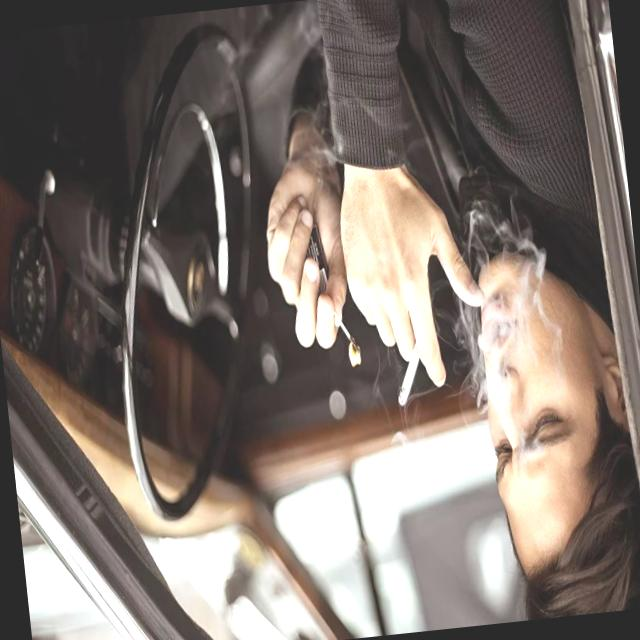smoke: (390, 336, 430, 409)
